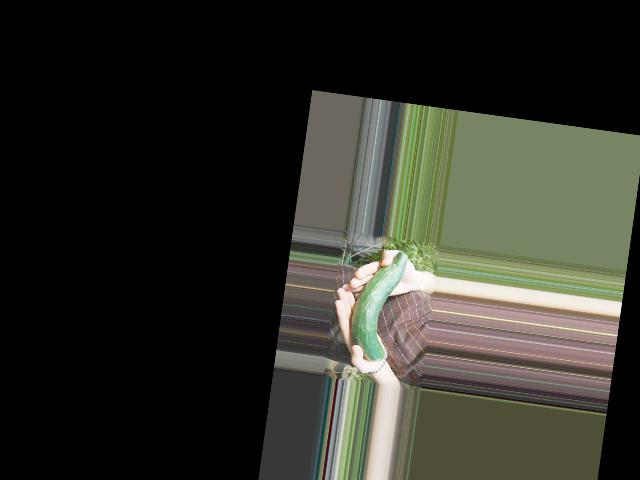cucumber: (346, 246, 408, 364)
